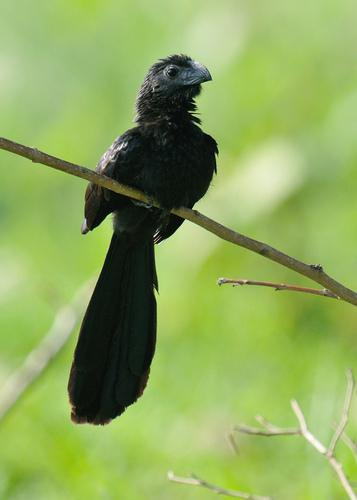004.Groove_billed_Ani: (65, 55, 222, 427)
